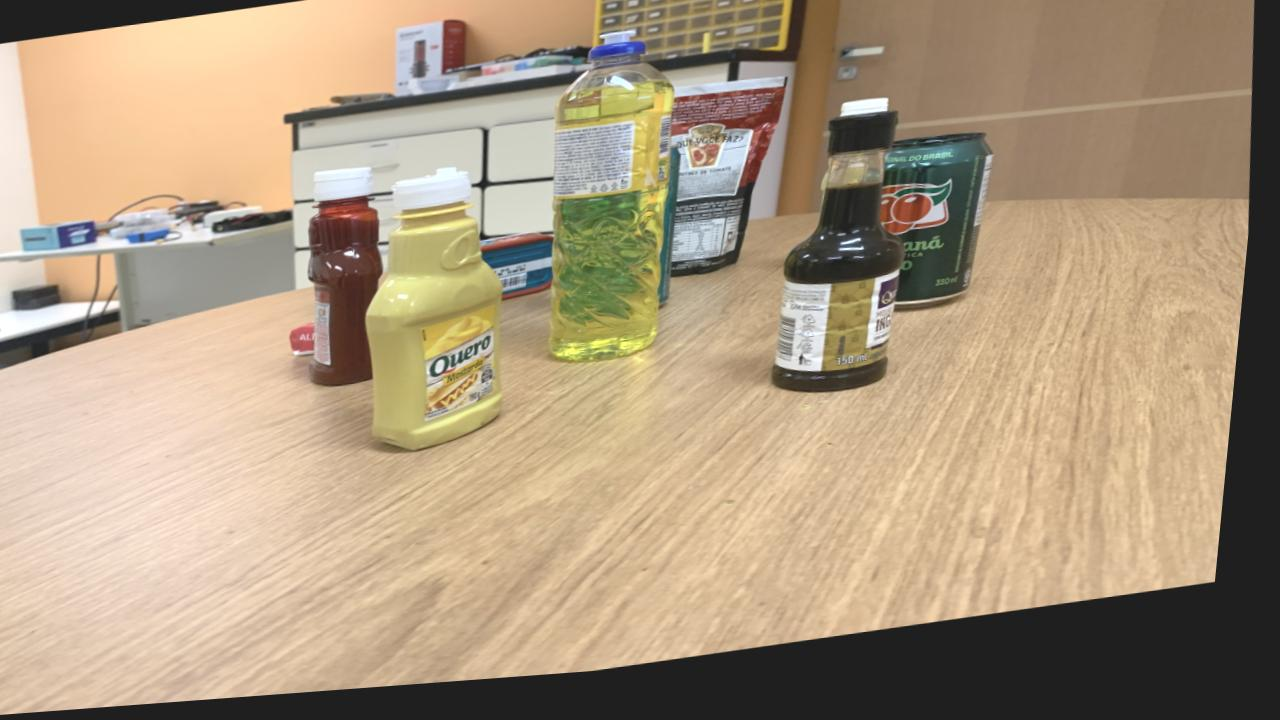Detergent-Cleanup_Items: (557, 41, 677, 371)
English_Sauce-Pantry_Items: (780, 123, 911, 405)
Guarana_Can-Drinks: (886, 148, 997, 321)
Ketchup-Pantry_Items: (313, 173, 388, 391)
Mustard-Pantry_Items: (372, 174, 510, 457), (844, 111, 892, 131)
Soap-Cleanup_Items: (297, 329, 322, 360)
Tea-Drinks: (665, 160, 684, 314)
Tomato_Sauce-Pantry_Items: (674, 88, 789, 286)
Tuna_Can-Pantry_Items: (485, 241, 558, 308)
